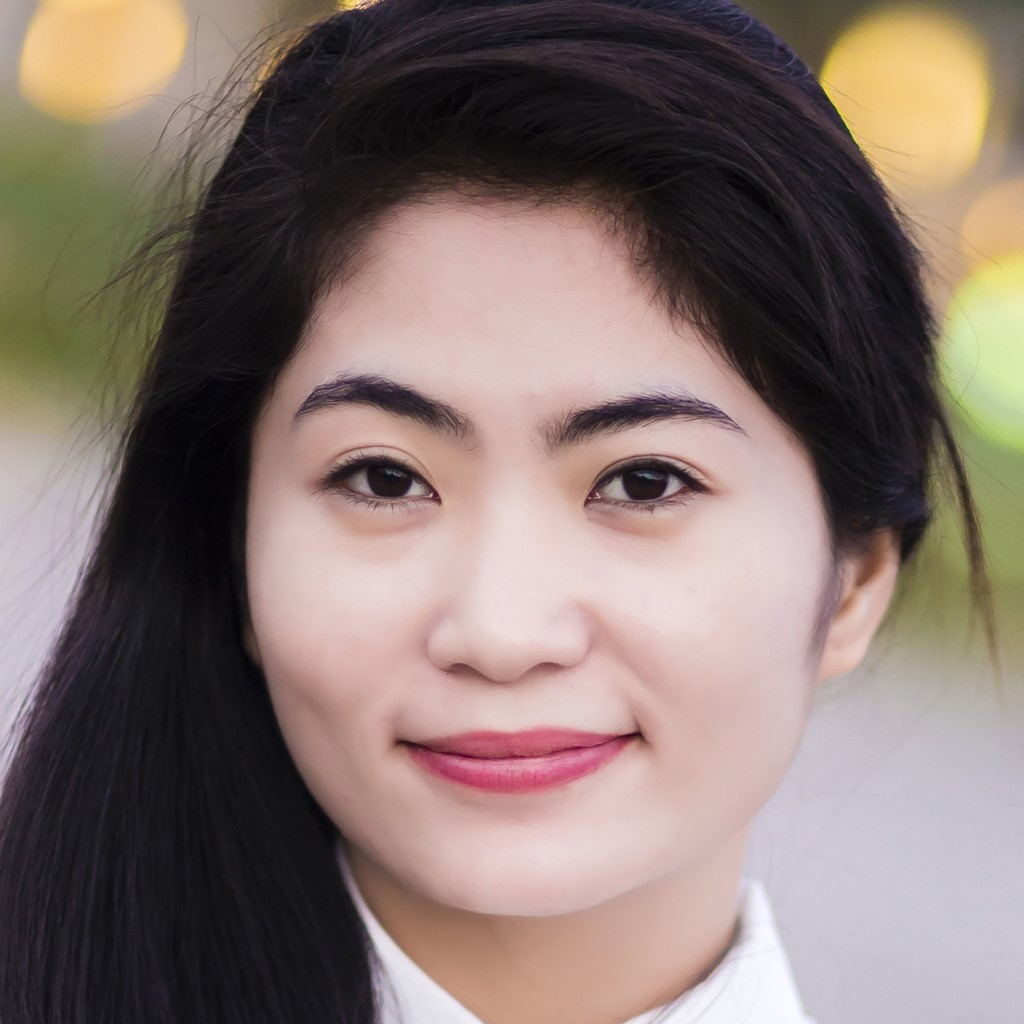sin_mascara: (231, 170, 849, 933)
